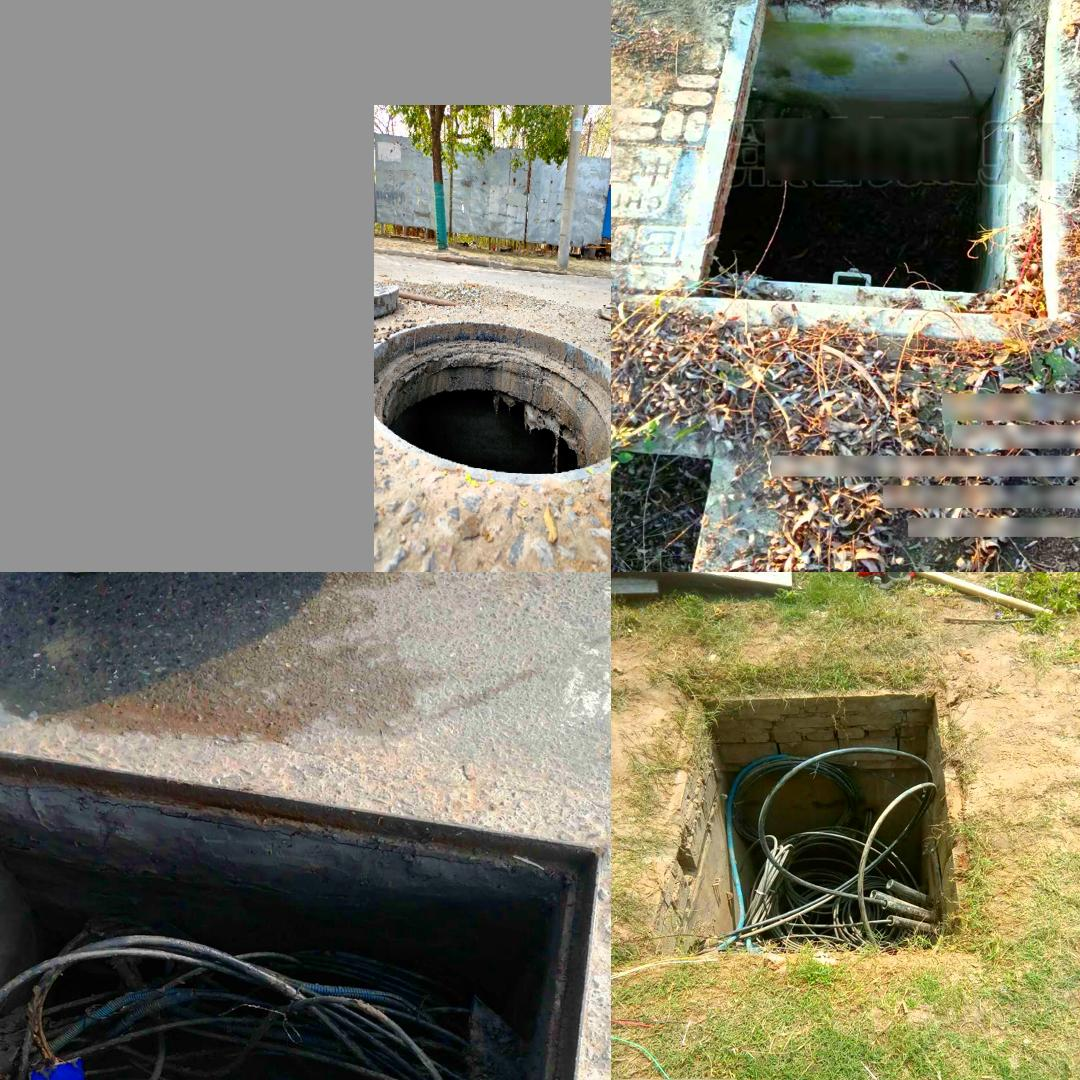lose: (0, 749, 601, 1080), (676, 0, 1077, 337), (648, 683, 973, 958), (373, 322, 610, 482)
